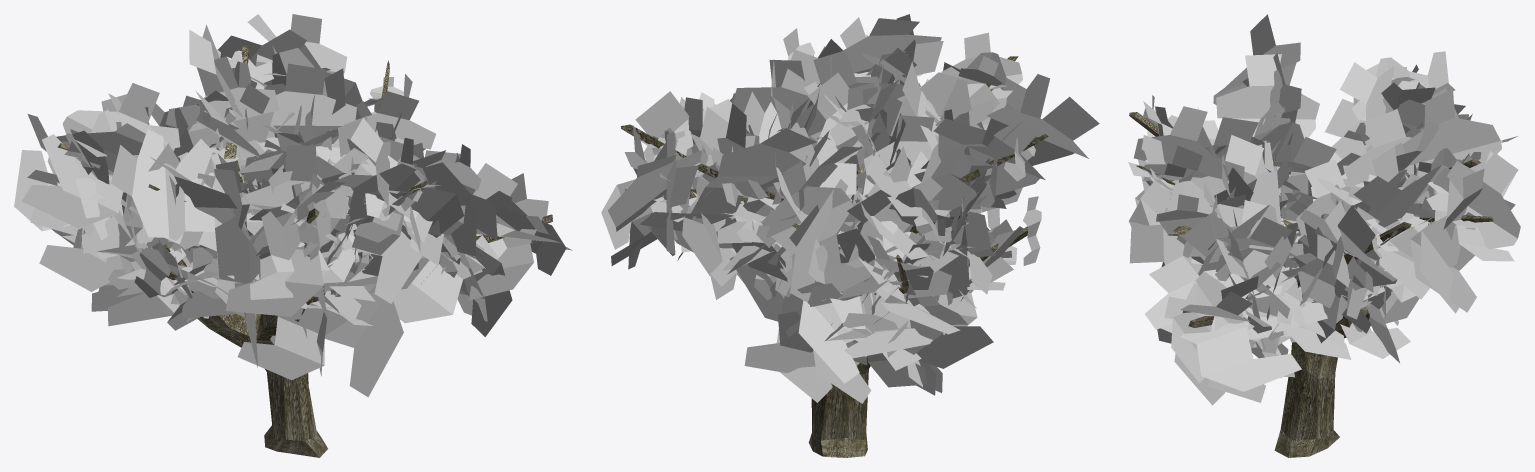
Rendered from Arbol_01.fbx.
The picture shows the model from 3 angles, left to right: view 1: azimuth 30°, elevation 25°; view 2: azimuth 150°, elevation 25°; view 3: azimuth 270°, elevation 25°; orthographic projection. The views are drawn at different scales.
Parts seen in each view (by area): view 1: Tree_Cañada01.002; view 2: Tree_Cañada01.002; view 3: Tree_Cañada01.002.
Part boxes in pixels (bbox=[...]): Tree_Cañada01.002: bbox=[14, 14, 572, 457]; Tree_Cañada01.002: bbox=[601, 14, 1099, 457]; Tree_Cañada01.002: bbox=[1128, 14, 1520, 457].
Size of the model in its own units: 30.12 by 24.06 by 24.79.
